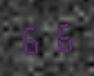six: (19, 22, 46, 55), (47, 20, 74, 53)
